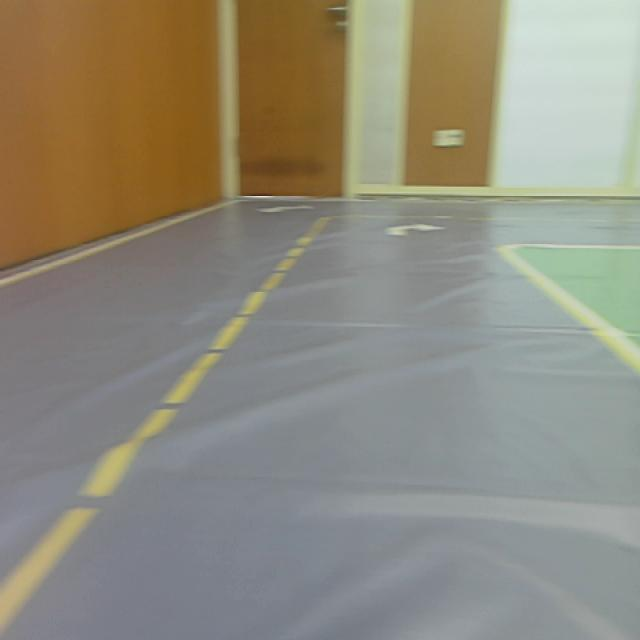left_lane: (0, 220, 328, 635)
right_lane: (499, 250, 640, 379)
